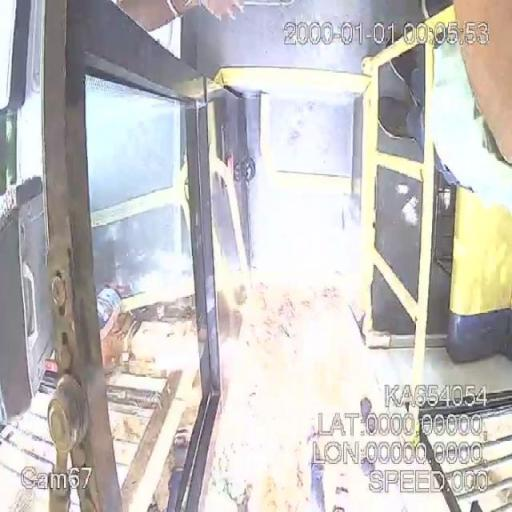persona: (112, 0, 246, 34)
